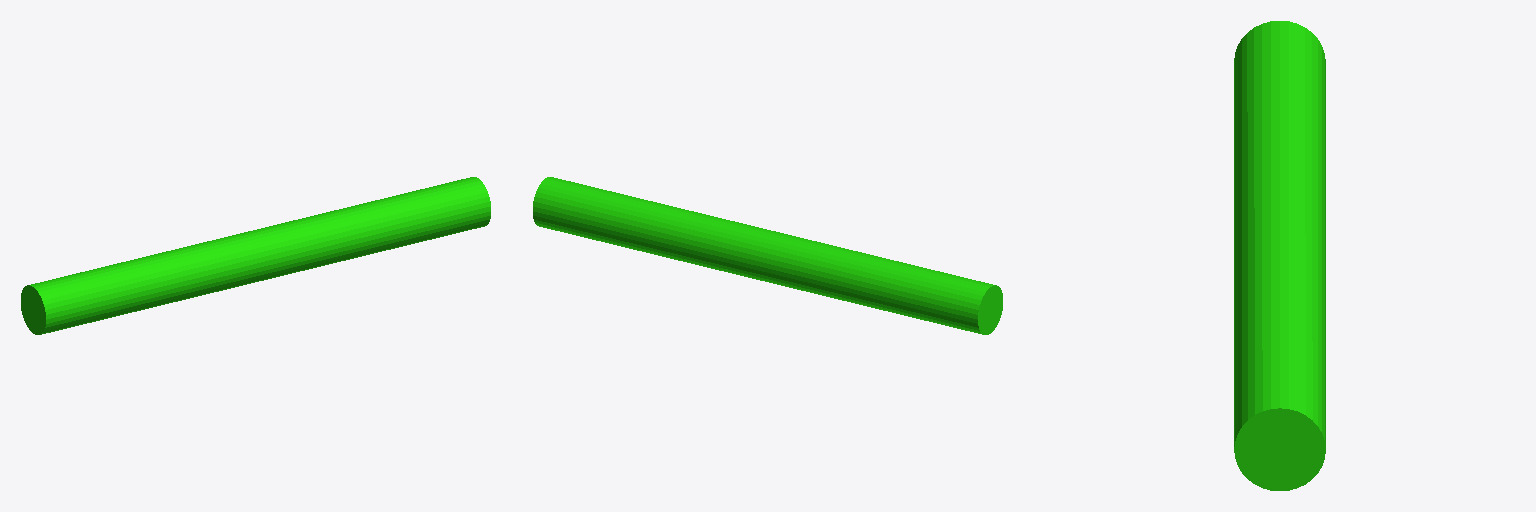
URDF robot description (Puma):
<?xml version="1.0" ?>

<robot name="Puma">

	<link name="ground">
		<inertial>
			<origin xyz="0.0 0.0 0.0" rpy="0 0 0" />
			<mass value="0.001" />
			<inertia ixx="0.01" iyy="0.01" izz="0.01" ixy="0" ixz="0" iyz="0" />
		</inertial>
		<visual>
			<origin xyz="0.0 0.0 0.0" rpy="0 0 0" />
			<geometry>
				<mesh filename="../../../../examples/models/puma560/meshes/base_bl.obj" scale="1 1 1" />
			</geometry>
		</visual>
	</link>

	<link name="base">
		<inertial>
			<origin xyz="0.0 0.0 0.0" rpy="0 0 0" />
			<mass value="34.4" />
			<inertia ixx="0.18" iyy="0.18" izz="0.35" ixy="0" ixz="0" iyz="0" />
		</inertial>
		<visual>
			<origin xyz="0.0 0.0 0.0" rpy="0 0 0" />
			<geometry>
				<mesh filename="../../../../examples/models/puma560/meshes/shoulder_bl.obj" scale="1 1 1" />
			</geometry>
		</visual>
	</link>

	<link name="upper_arm">
		<inertial>
			<origin xyz="0.068 0.006 -0.016" rpy="0 0 0" />
			<mass value="17.4" />
			<inertia ixx="0.130" iyy="0.524" izz="0.539" ixy="0" ixz="0" iyz="0" />
		</inertial>
		<visual>
			<origin xyz="0.0 0.0 0.0" rpy="0 0 0" />
			<geometry>
				<mesh filename="../../../../examples/models/puma560/meshes/upper_arm_bl.obj" scale="1 1 1" />
			</geometry>
		</visual>
	</link>

	<link name="lower_arm">
		<inertial>
			<origin xyz="0.0 -0.143 0.014" rpy="0 0 0" />
			<mass value="6.04" />
			<inertia ixx="0.066" iyy="0.0125" izz="0.086" ixy="0" ixz="0" iyz="0" />
		</inertial>
		<visual>
			<origin xyz="-0.02 0.0 -0.005" rpy="0 0 0" />
			<geometry>
				<mesh filename="../../../../examples/models/puma560/meshes/lower_arm_bl.obj" scale="1 1 1" />
			</geometry>
		</visual>
	</link>

	<link name="wrist-hand">
		<inertial>
			<origin xyz="0.0 0.0 -0.019" rpy="0 0 0" />
			<mass value="0.82" />
			<inertia ixx="0.0018" iyy="0.0018" izz="0.0013" ixy="0" ixz="0" iyz="0" />
		</inertial>
		<visual>
			<origin xyz="0.0 0.0 0.0" rpy="0 0 0" />
			<geometry>
				<mesh filename="../../../../examples/models/puma560/meshes/hand_bl.obj" scale="1 1 1" />
			</geometry>
		</visual>
	</link>

	<link name="wrist-finger">
		<inertial>
			<origin xyz="0.0 0.0 0.0" rpy="0 0 0" />
			<mass value="0.34" />
			<inertia ixx="0.0003" iyy="0.0003" izz="0.0004" ixy="0" ixz="0" iyz="0" />
		</inertial>
		<visual>
			<origin xyz="0.0 0.0 0.0" rpy="0 0 0" />
			<geometry>
				<mesh filename="../../../../examples/models/puma560/meshes/finger_bl.obj" scale="1 1 1" />
			</geometry>
		</visual>
	</link>

	<link name="end-effector">
		<inertial>
			<origin xyz="0.0 0.0 0.032" rpy="0 0 0" />
			<mass value="0.39" />
			<inertia ixx="0.01" iyy="0.001" izz="0.01" ixy="0" ixz="0" iyz="0" />
		</inertial>
		<visual>
			<origin xyz="0.0 0.0 0.0" rpy="1.5707 0 0" />
			<geometry>
                <cylinder radius="0.01" length="0.2" />
            </geometry>
            <material name="link5-1">
                <color rgba="0.2 0.9 0.1 1.0" />
            </material>
		</visual>
	</link>

	<joint name="shoulder-yaw" type="revolute">
		<parent link="ground" />
		<child link="base" />
		<origin xyz="0.0 0.0 0.66" rpy="0.0 0.0 0.0" />
		<axis xyz="0 0 1" />
		<calibration falling="90.0" />
		<limit lower="-3.14159" upper="3.14159" effort="97.6" velocity="1.0" />
	</joint>

	<joint name="shoulder-pitch" type="revolute">
		<parent link="base" />
		<child link="upper_arm" />
		<origin xyz="0.0 0.2435 0.0" rpy="-1.5707963268 0.0 0.0" />
		<axis xyz="0 0 1" />
		<calibration falling="30.0" />
		<limit lower="-3.14159" upper="3.14159" effort="186.4" velocity="1.0" />
	</joint>

	<joint name="elbow" type="revolute">
		<parent link="upper_arm" />
		<child link="lower_arm" />
		<origin xyz="0.4318 0.0 -0.0934" rpy="0.0 0.0 0.0" />
		<axis xyz="0 0 1" />
		<limit lower="-3.14159" upper="3.14159" effort="89.4" velocity="1.0" />
	</joint>

	<joint name="wrist-roll1" type="revolute">
		<parent link="lower_arm" />
		<child link="wrist-hand" />
		<origin xyz="-0.0203 -0.4331 0.0" rpy="1.5707963268 0.0 0.0" />
		<axis xyz="0 0 1" />
		<calibration falling="-90.0" />
		<limit lower="-3.14159" upper="3.14159" effort="24.2" velocity="1.0" />
	</joint>

	<joint name="wrist-pitch" type="revolute">
		<parent link="wrist-hand" />
		<child link="wrist-finger" />
		<origin xyz="0.0 0.0 0.0" rpy="0 1.5707963268 -3.1415926536" />
		<axis xyz="0 0 1" />
		<calibration falling="-30.0" />
		<limit lower="-3.14159" upper="3.14159" effort="20.1" velocity="1.0" />
	</joint>

	<joint name="wrist-roll2" type="revolute">
		<parent link="wrist-finger" />
		<child link="end-effector" />
		<origin xyz="-0.07 0.0 0.0" rpy="1.5707 0.0 0.0" />
		<axis xyz="1 0 0" />
		<limit lower="-3.14159" upper="3.14159" effort="21.3" velocity="1.0" />
	</joint>

</robot>

--- Facts derived from the render (not from the file) ---
The picture shows the robot from 3 angles, left to right: view 1: azimuth 30°, elevation 25°; view 2: azimuth 150°, elevation 25°; view 3: azimuth 270°, elevation 25°; orthographic projection.
Model Puma with 7 links and 6 joints (6 revolute), rooted at ground, posed all joints at 0.
Links seen in each view (by area): view 1: end-effector; view 2: end-effector; view 3: end-effector.
Boxes of the visible links, x1=… form: end-effector: x1=21, y1=177, x2=490, y2=334; end-effector: x1=533, y1=177, x2=1002, y2=334; end-effector: x1=1234, y1=21, x2=1325, y2=490.
Bounding box of the posed robot: 0.2 × 0.02 × 0.02 m (x, y, z).
Geometry: only primitive shapes (box / cylinder / sphere) drawn; not drawn: 6 mesh visuals (reference in a form the renderer does not follow).